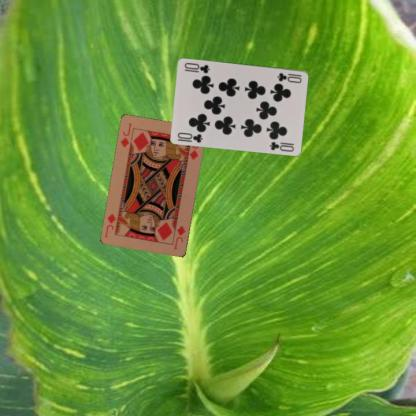10c: (176, 129, 204, 144), (275, 70, 303, 84)
Jd: (118, 121, 133, 149), (172, 222, 186, 251)
